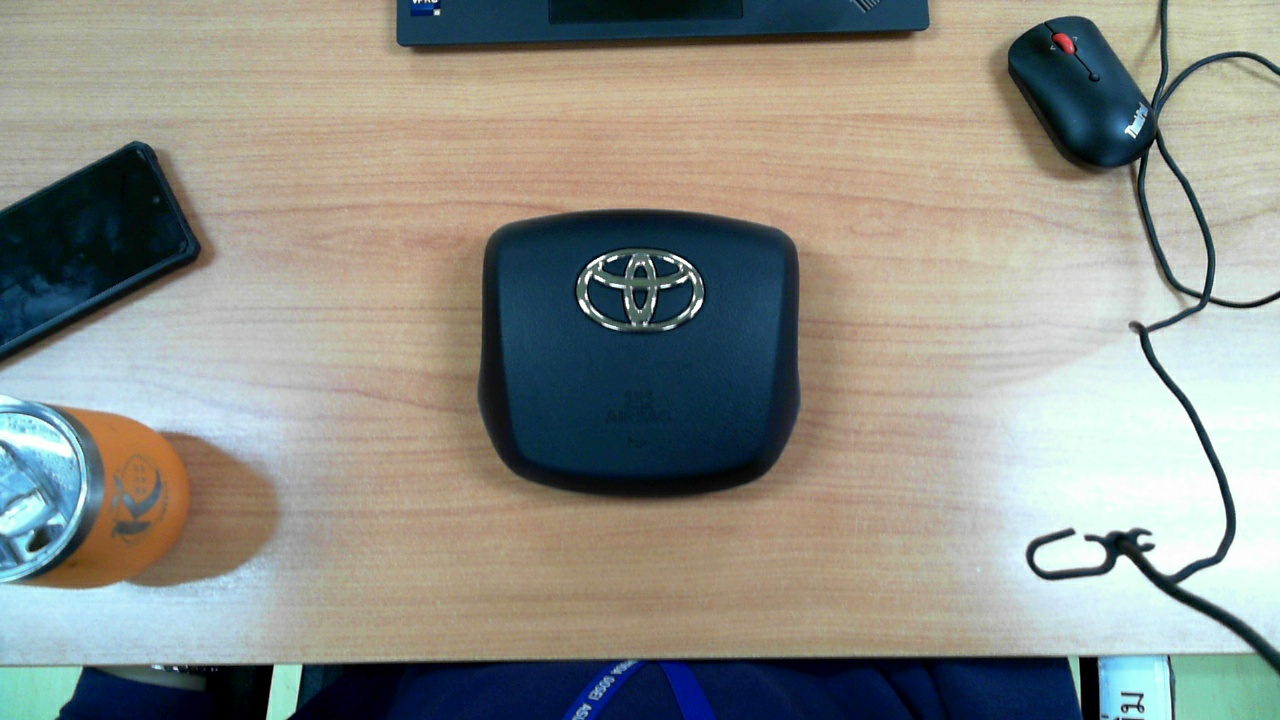Airbag: (462, 194, 817, 525)
